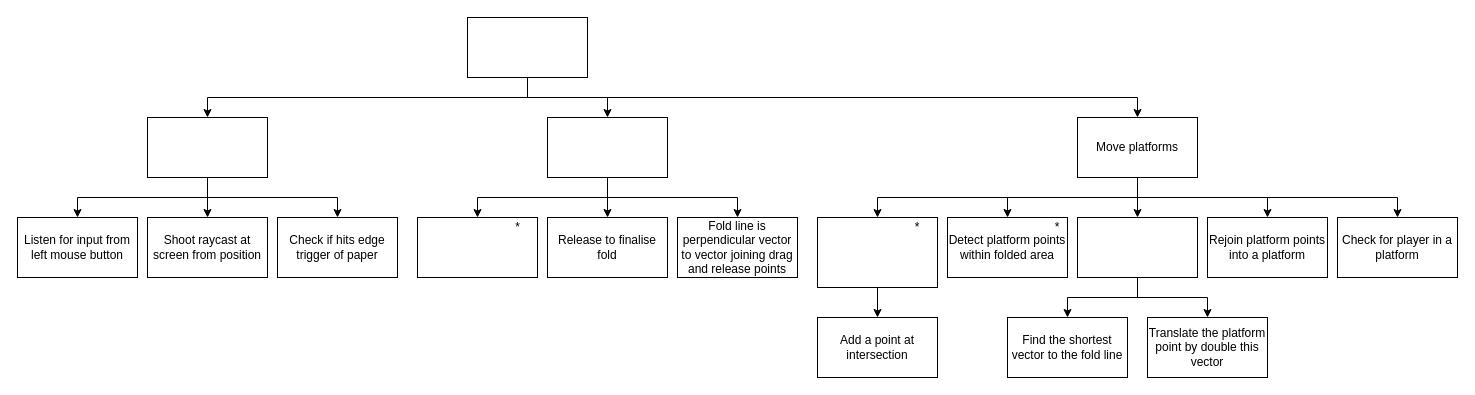
Some shapes in this 1475 by 395 pixel diagram are drawn without their labels. The box of each missing label's shape, as (x1, y1, x2, y2) in pixels:
Check for intersections between platform points and the fold line: (816, 216, 938, 288)
Check if clicking corner of paper: (146, 116, 268, 178)
Drag corner to fold: (546, 116, 668, 178)
Folding Platforms: (466, 16, 588, 78)
Reflect them in the fold line: (1076, 216, 1198, 278)
Render line to show the fold: (416, 216, 538, 278)
